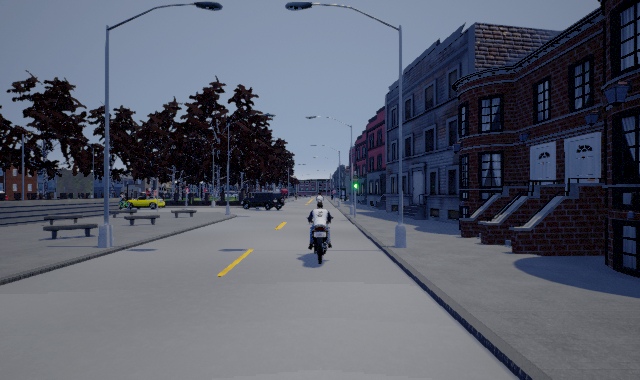motobike: (306, 201, 335, 264)
traffic_light: (353, 173, 359, 189)
vehicle: (241, 192, 285, 210), (125, 191, 166, 210)
